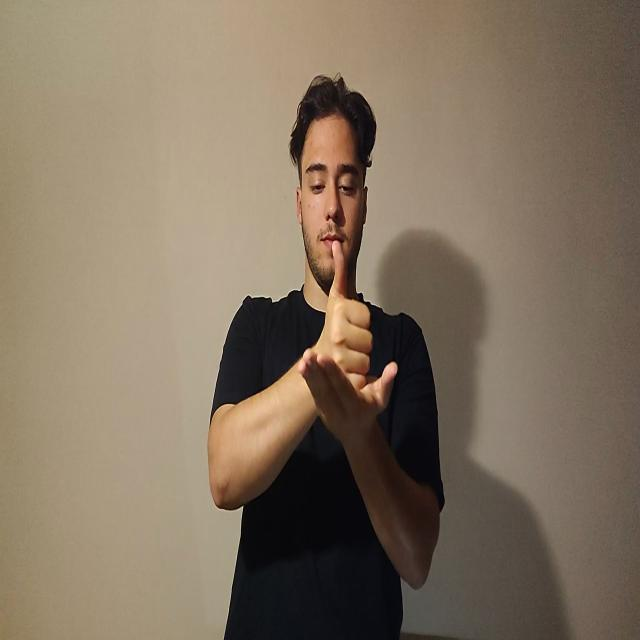help: (299, 243, 399, 437)
